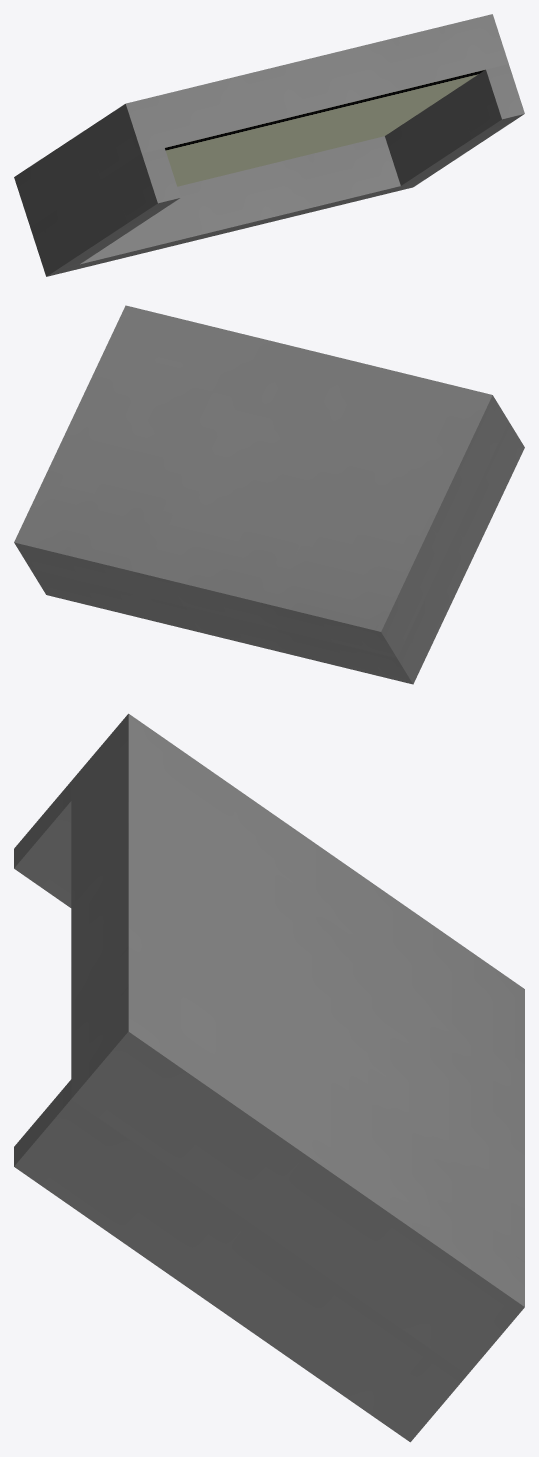
Rendered from dc_metro_arch_b8.obj.
The picture shows the model from 3 angles, top to bottom: view 1: azimuth 30°, elevation 25°; view 2: azimuth 150°, elevation 25°; view 3: azimuth 270°, elevation 25°; orthographic projection. The views are drawn at different scales.
Visible parts, largest first — view 1: part8; view 2: part8; view 3: part8.
Part boxes in pixels (x1,y1,x2,y2): part8: (14,14,524,276); part8: (14,305,524,684); part8: (14,713,524,1442).
Bounding box in the file's own units: 2 × 1.21 × 1.36.
Materials: 2 (2 with a texture image).
